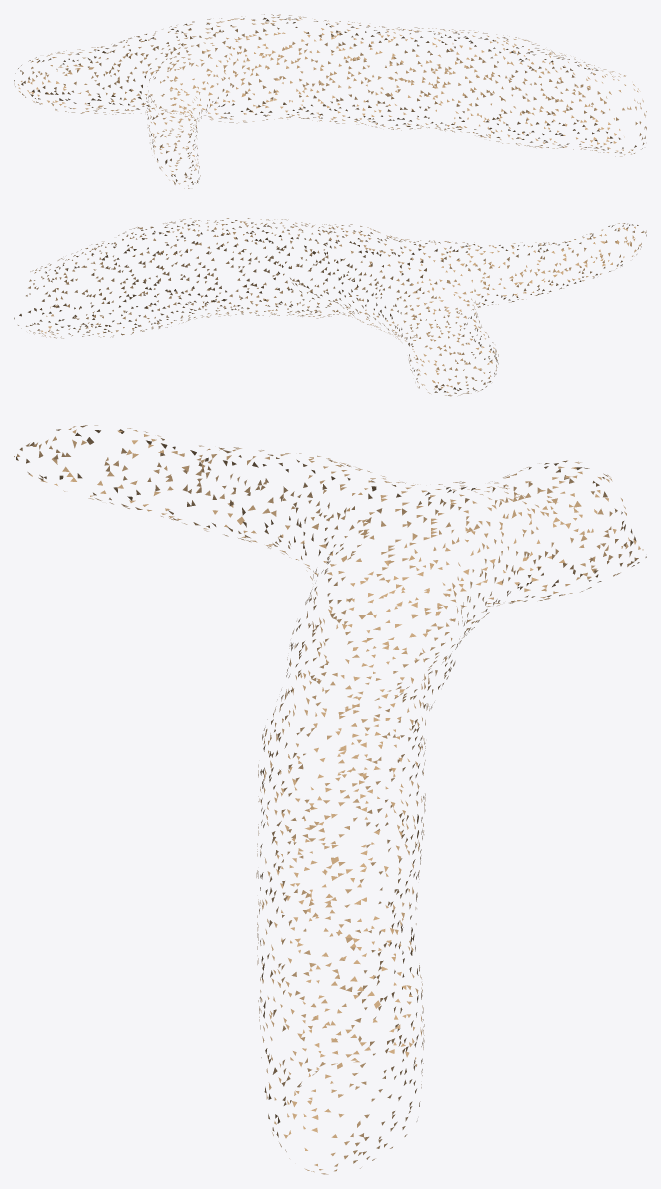
The model's file is morph_006.glb.
3 renders of one model, top to bottom at view 1: azimuth 30°, elevation 25°; view 2: azimuth 150°, elevation 25°; view 3: azimuth 270°, elevation 25°, orthographic. The views are drawn at different scales.
Bounding box in the file's own units: 112 × 39.7 × 66.39.
